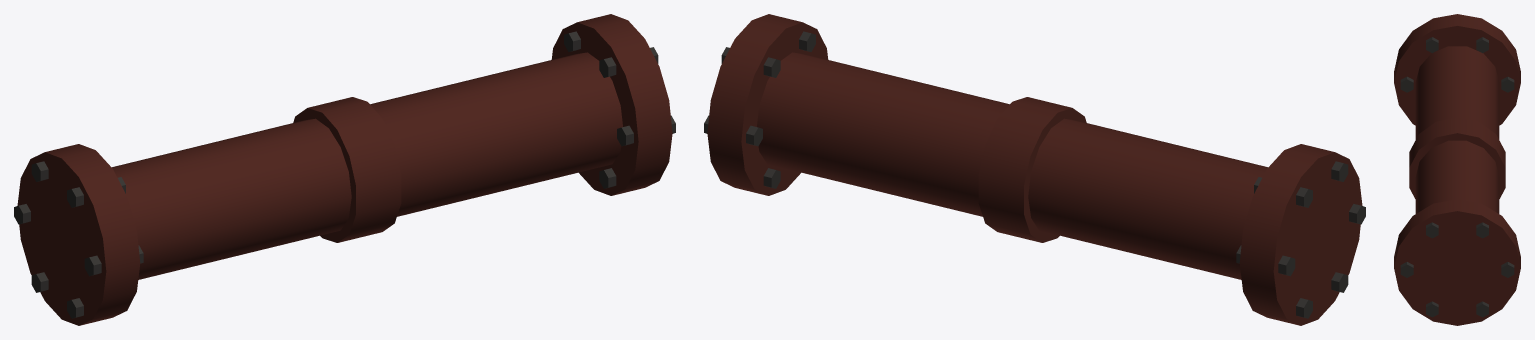
File: PipeShort.fbx
3 views of the same model, side by side, from view 1: azimuth 30°, elevation 25°; view 2: azimuth 150°, elevation 25°; view 3: azimuth 270°, elevation 25° (orthographic). The views are drawn at different scales.
Visible parts, largest first — view 1: PipeShort_Pipe, PipeShort_Bolts; view 2: PipeShort_Pipe, PipeShort_Bolts; view 3: PipeShort_Pipe, PipeShort_Bolts.
Boxes of the visible parts, bbox=[...] form: PipeShort_Pipe: bbox=[17, 14, 672, 325]; PipeShort_Bolts: bbox=[14, 31, 675, 318]; PipeShort_Pipe: bbox=[707, 14, 1362, 325]; PipeShort_Bolts: bbox=[704, 31, 1365, 318]; PipeShort_Pipe: bbox=[1394, 14, 1520, 325]; PipeShort_Bolts: bbox=[1400, 37, 1514, 317].
Size of the model in its own units: 0.514 by 0.136 by 0.136.
